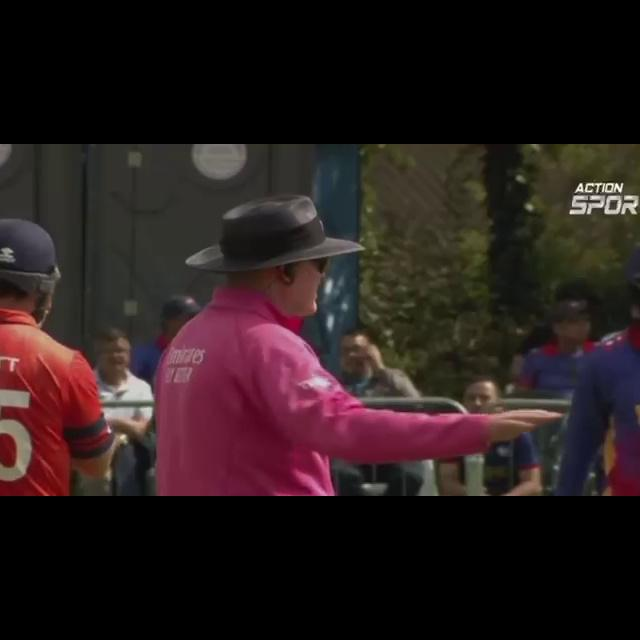umpire: (141, 182, 569, 496)
